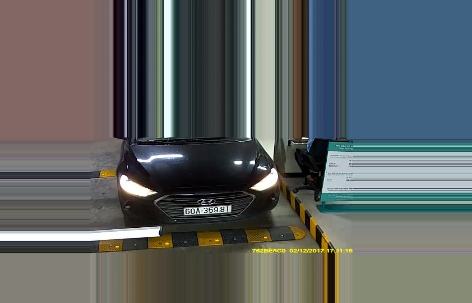plate: (181, 204, 234, 214)
